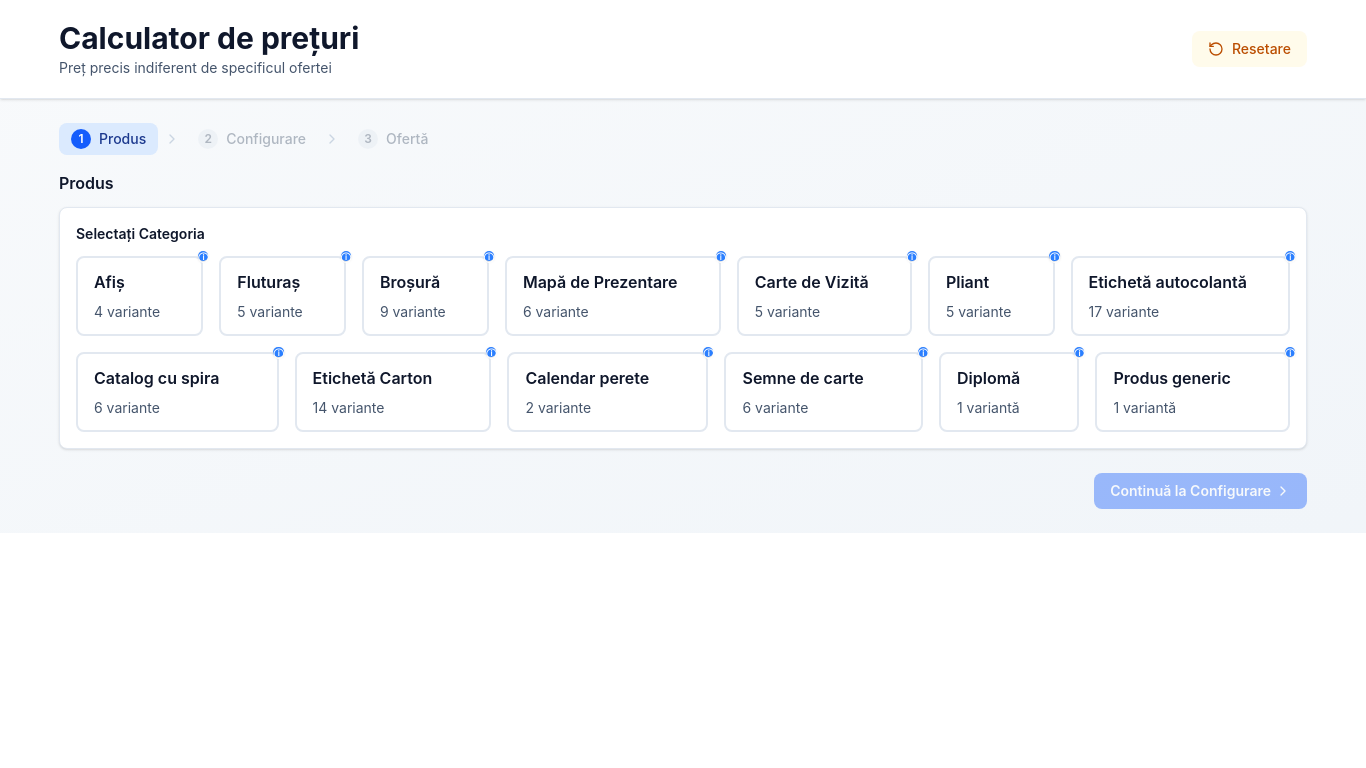
ProductConfigurator › flow › jumps to a stage from the progress nav
Click the text "Fluturaș" at [269, 282], box x1=237 y1=272 x2=300 y2=292
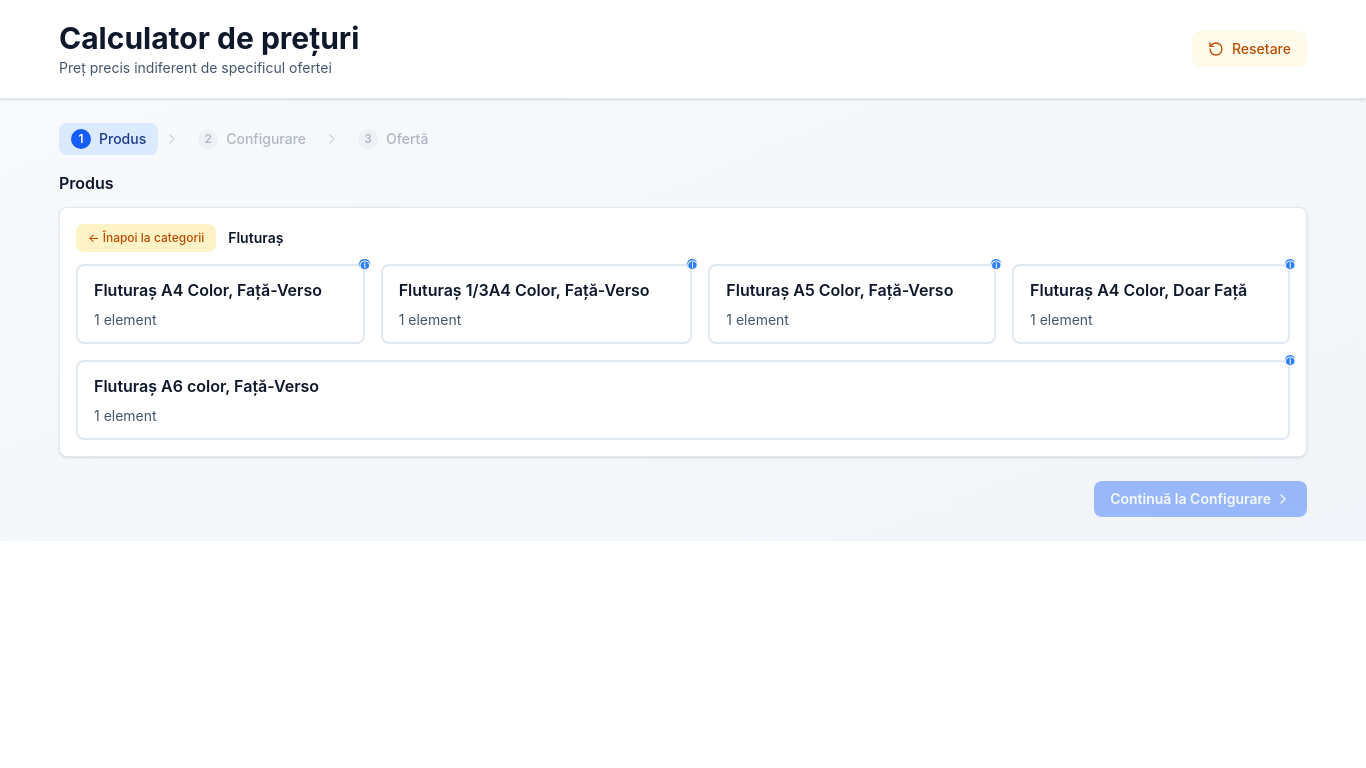
Click the text "Fluturaș A4 Color, Față-Verso" at [220, 290], box x1=94 y1=278 x2=347 y2=302
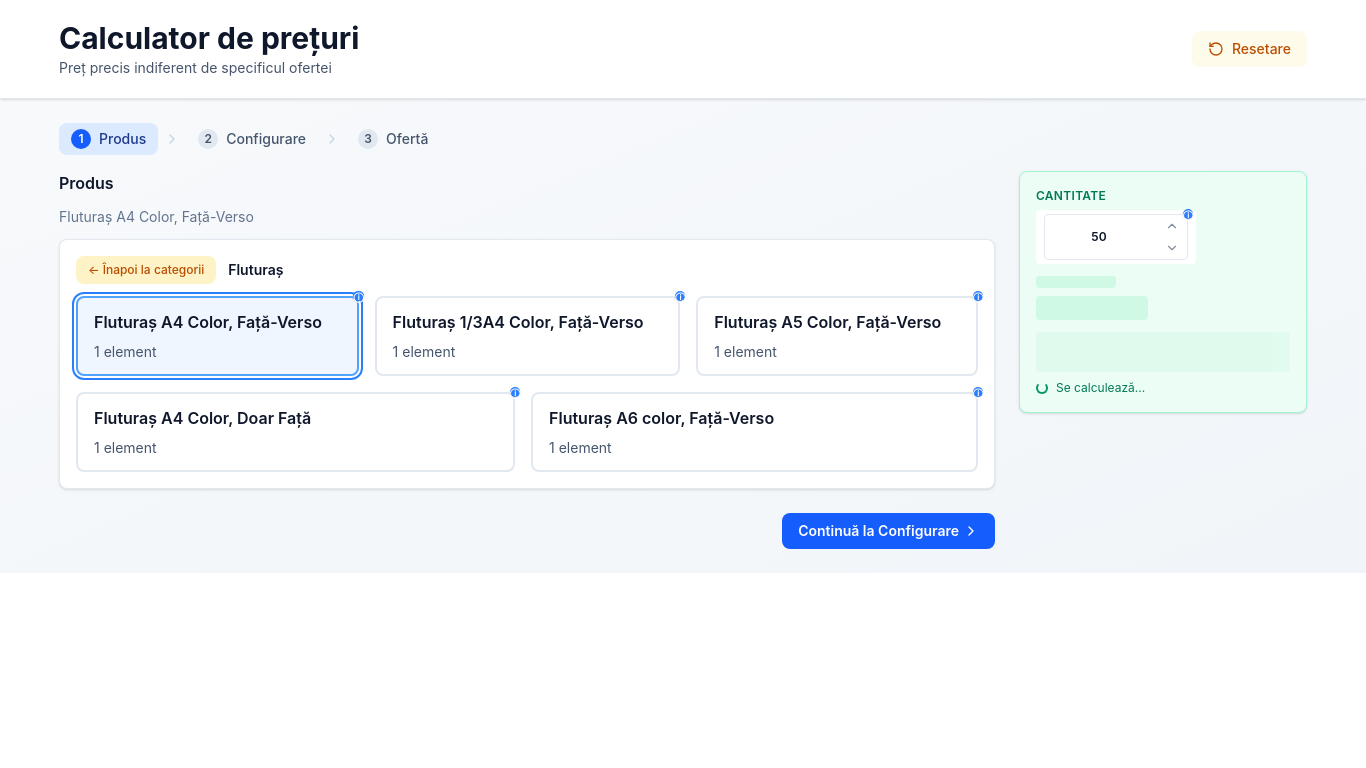
Click the button with aria-label "Pasul 3 din 3: Ofertă" at [393, 139], box x1=346 y1=123 x2=440 y2=155
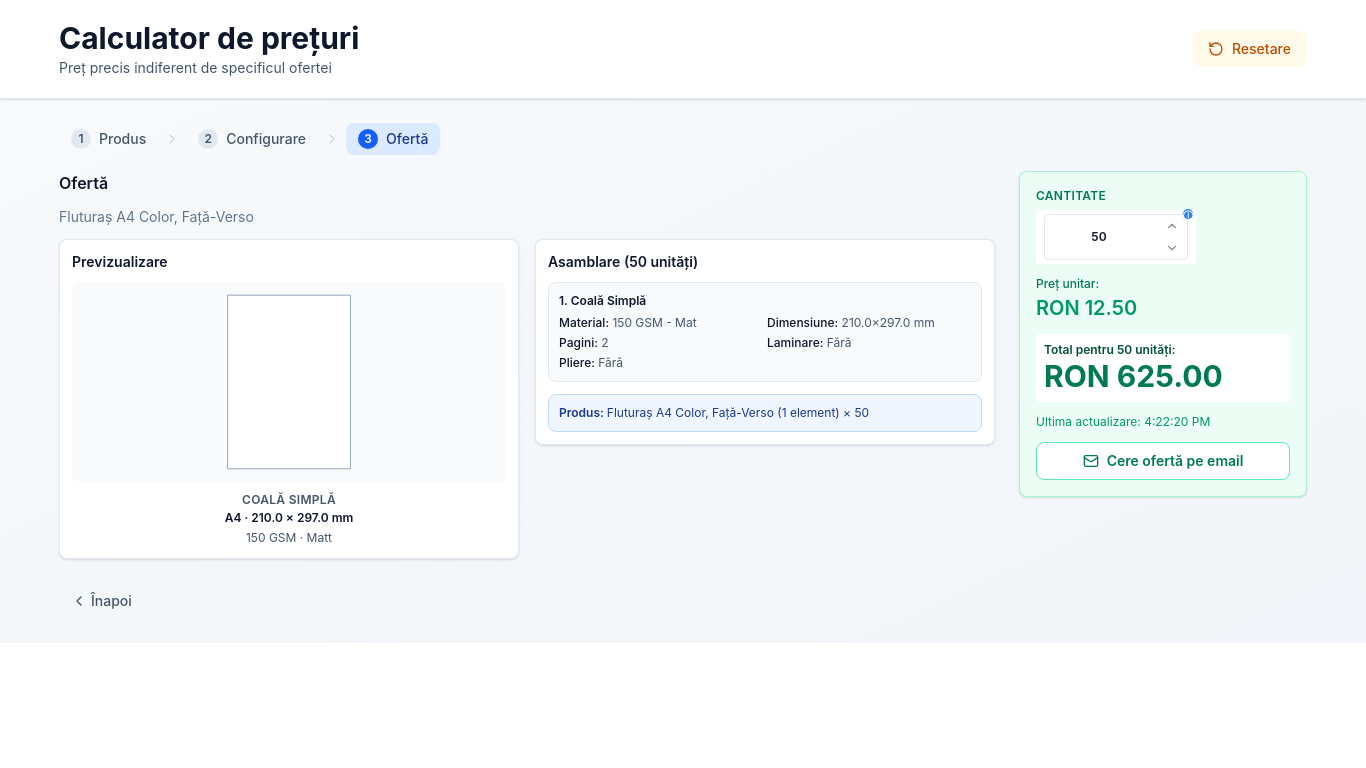
Expected: the heading "Previzualizare" is shown, x1=72 y1=253 x2=168 y2=270
